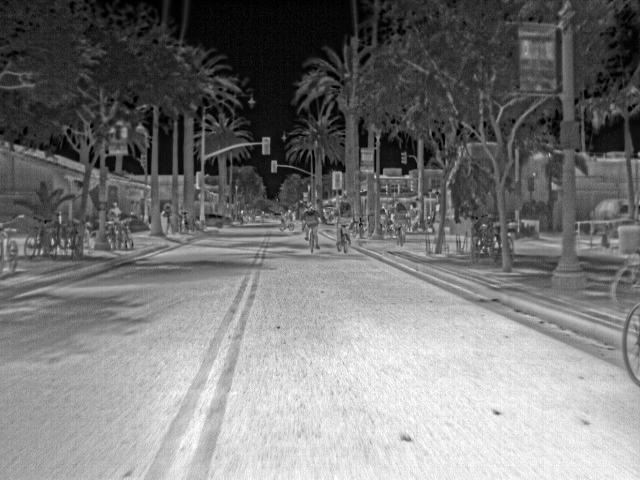car: (588, 198, 629, 219), (206, 212, 230, 229), (253, 213, 263, 222)
person: (334, 196, 352, 247), (303, 202, 322, 250), (427, 202, 441, 243), (390, 201, 407, 226), (106, 202, 122, 220), (406, 201, 418, 223), (377, 204, 389, 224), (281, 206, 295, 222), (236, 208, 245, 226), (261, 208, 265, 221)
